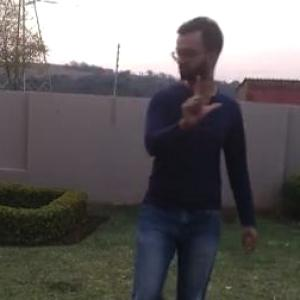land_hand: (178, 69, 222, 130)
